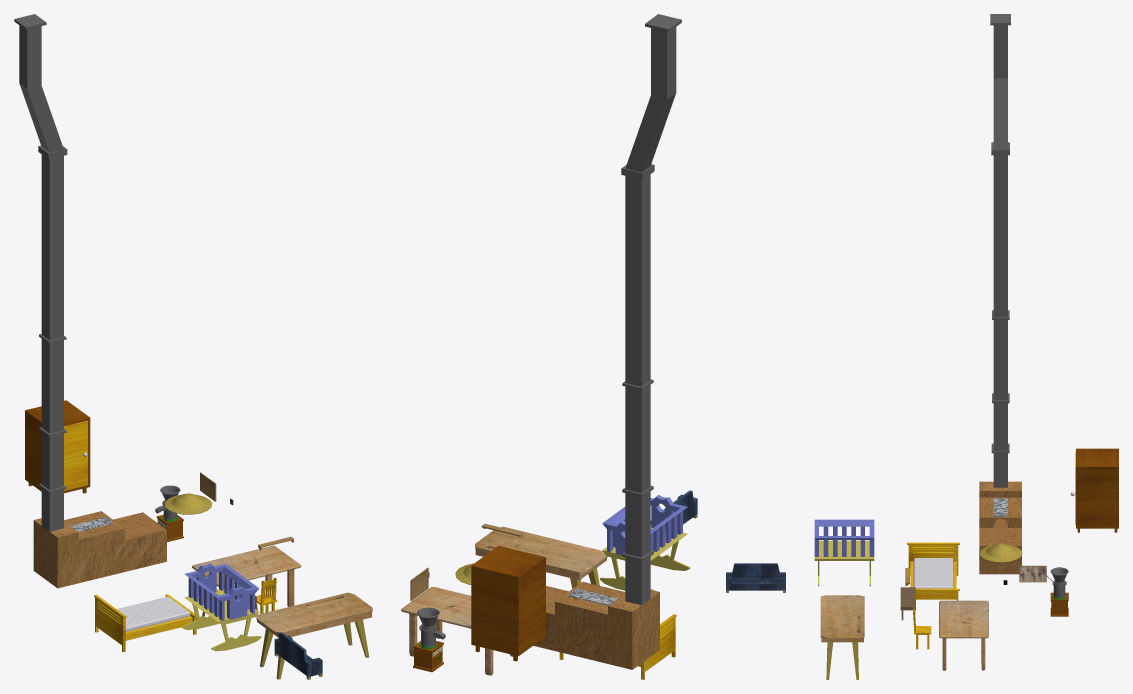
The model's file is Itens_casa_Thomaz.fbx.
3 renders of one model, left to right at view 1: azimuth 30°, elevation 25°; view 2: azimuth 150°, elevation 25°; view 3: azimuth 270°, elevation 25°, orthographic. The views are drawn at different scales.
Visible parts, largest first — view 1: Cube.005, Cube.004, Cube.001, Cube, Cube.006, Cama, Plane, Colçao, Sofa, Circle; view 2: Cube.005, Cube.006, Cube.004, Cube.001, Cube, Cama, Moedor, Apoio_Moedor, Sofa; view 3: Cube.005, Cube.006, Cube.001, Cube.004, Cube, Cama, Sofa, Colçao, Circle.
Part boxes in pixels (box(x1,y1,x2,y2)): Cube.005: box(14, 14, 166, 588); Cube.004: box(182, 563, 261, 651); Cube.001: box(256, 592, 372, 679); Cube: box(192, 545, 301, 606); Cube.006: box(25, 400, 90, 493); Cama: box(94, 594, 196, 652); Plane: box(64, 420, 87, 490); Colçao: box(117, 596, 190, 631); Sofa: box(274, 632, 322, 679); Circle: box(164, 493, 212, 514); Cube.005: box(533, 14, 681, 669); Cube.006: box(471, 545, 545, 661); Cube.004: box(600, 495, 690, 590); Cube.001: box(475, 526, 607, 588); Cube: box(401, 587, 513, 675); Cama: box(559, 614, 676, 679); Moedor: box(417, 607, 445, 648); Apoio_Moedor: box(413, 641, 443, 672); Sofa: box(650, 490, 697, 524); Cube.005: box(979, 14, 1021, 574); Cube.006: box(1076, 448, 1118, 532); Cube.001: box(820, 595, 864, 679); Cube.004: box(814, 519, 874, 586); Cube: box(939, 600, 988, 670); Cama: box(907, 542, 959, 600); Sofa: box(726, 563, 785, 592); Colçao: box(913, 558, 953, 588); Circle: box(979, 543, 1022, 562).
Size of the model in its own units: 1226 by 2867 by 1834.
